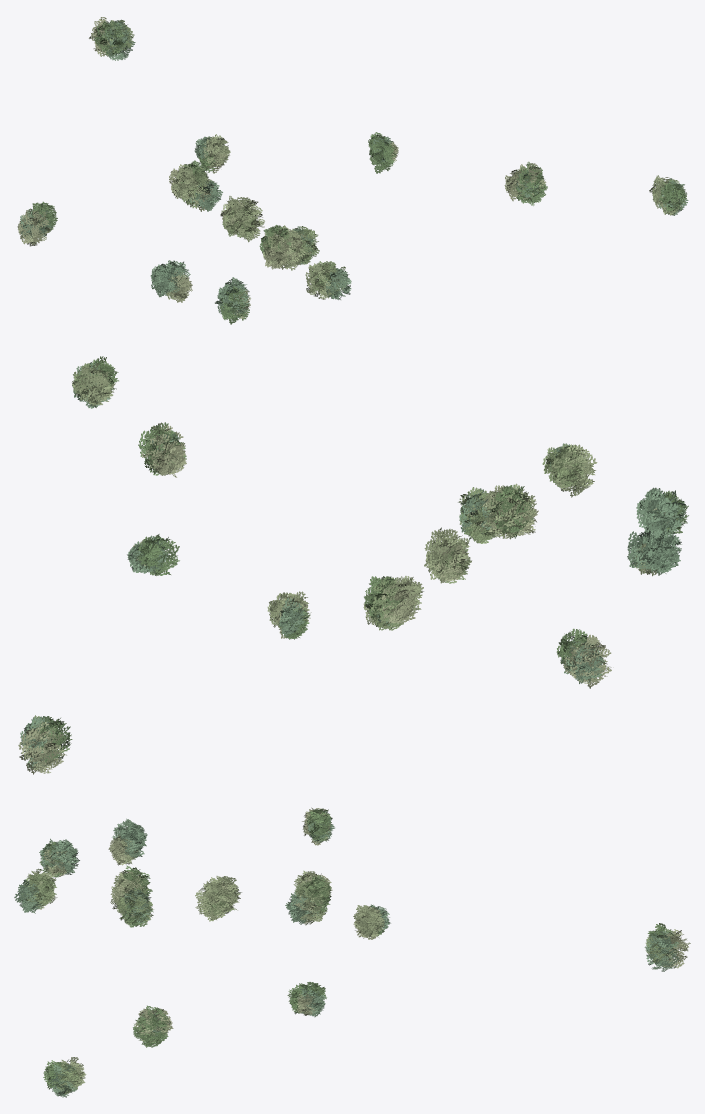
The model's file is campus-tree-2_-2-near.glb.
The picture shows the model from 3 angles, top to bottom: view 1: azimuth 30°, elevation 25°; view 2: azimuth 150°, elevation 25°; view 3: azimuth 270°, elevation 25°; orthographic projection. The views are drawn at different scales.
Parts seen in each view (by area): view 1: Campus leaf canopy; view 2: Campus leaf canopy; view 3: Campus leaf canopy.
Part boxes in pixels (left/top/right/bottom): Campus leaf canopy: left=17, top=17, right=688, bottom=324; Campus leaf canopy: left=18, top=356, right=688, bottom=774; Campus leaf canopy: left=14, top=807, right=690, bottom=1097.
Size of the model in its own units: 76.29 by 7.46 by 81.93.
Materials: 1 (1 with a texture image).
